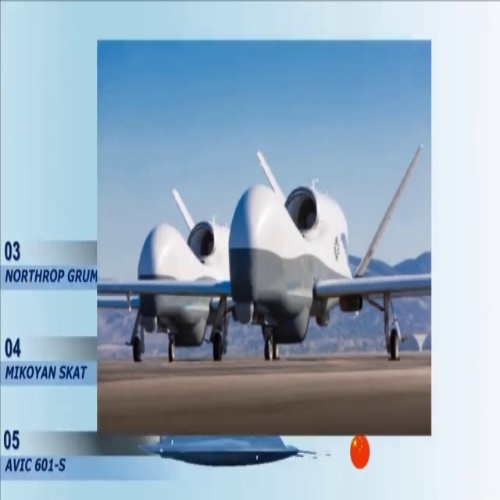uav1056: (101, 151, 430, 367), (115, 179, 229, 362)
